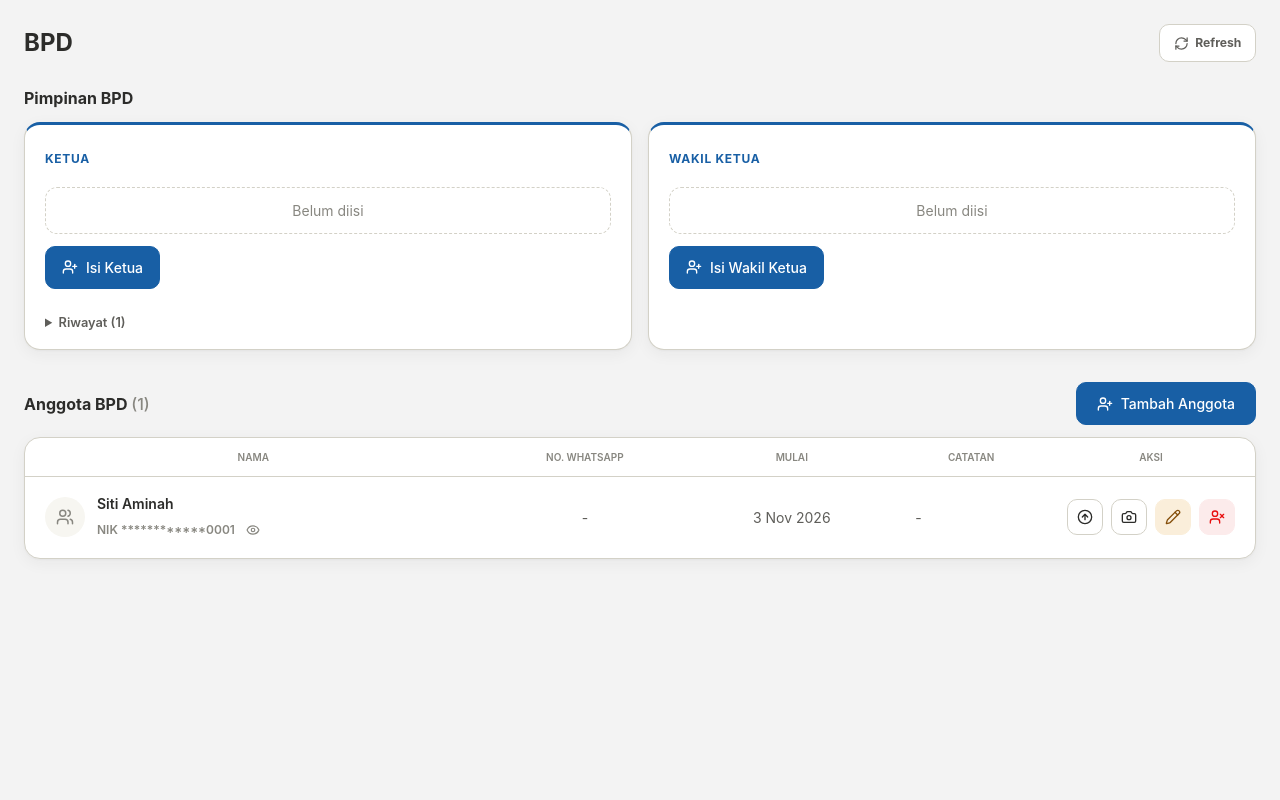
Test: OrganisasiManager › adds a member only from a village NIK and fills the name automatically
The image size is (1280, 800).
Later steps or results of the test are not shown.
Click the button "Tambah Anggota" at (1166, 404), box [1076, 382, 1256, 425]
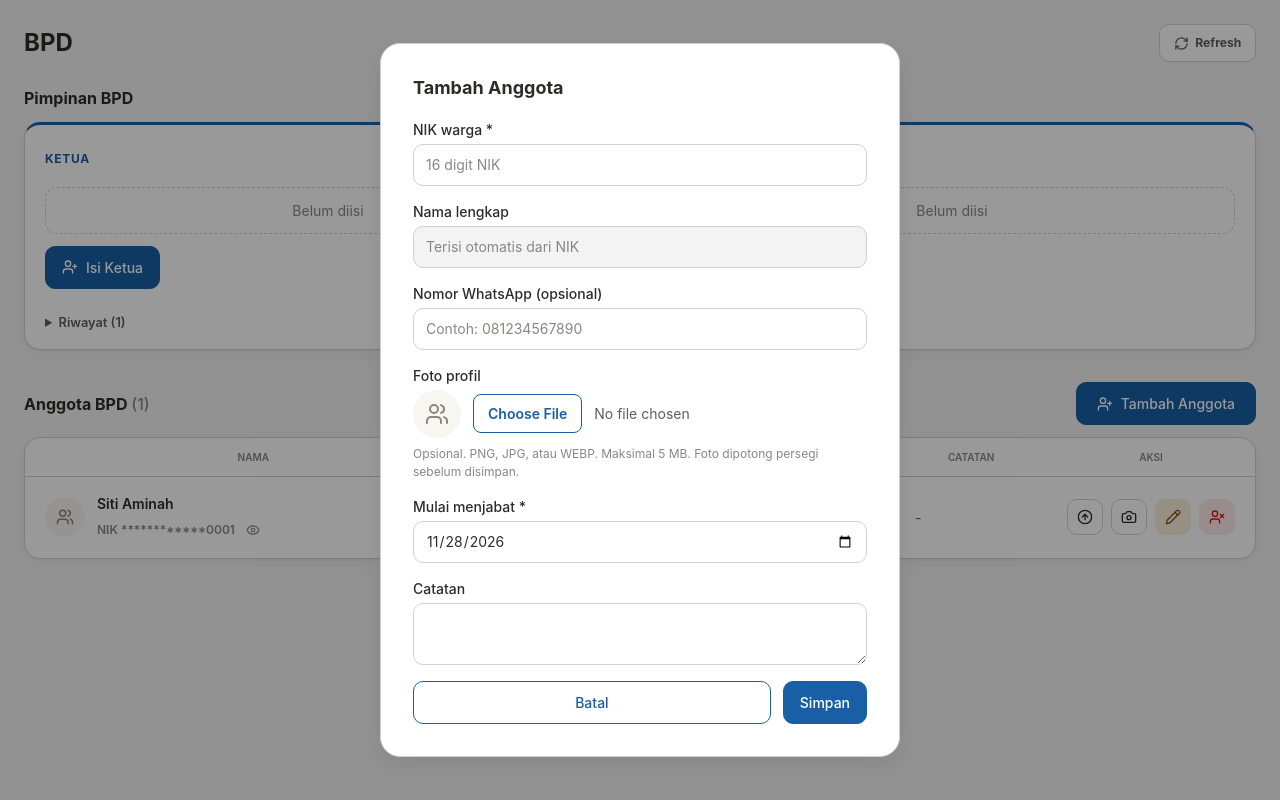
expect the button "Simpan" is enabled: met, box [783, 681, 867, 724]
Type "3201010101010002" into the field labelled "NIK warga *" at (640, 165), box [413, 144, 867, 186]
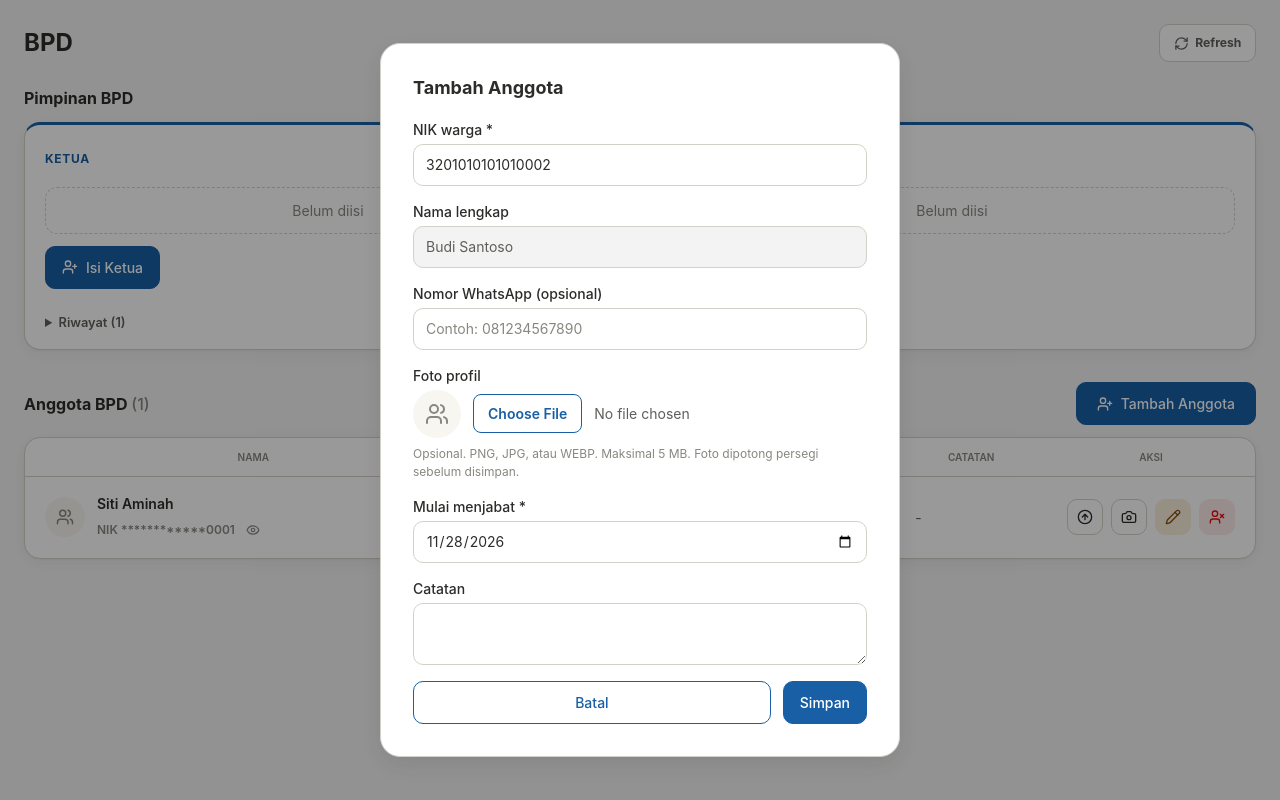
expect the field labelled "Nama lengkap" holds "Budi Santoso": met, box [413, 226, 867, 268]
